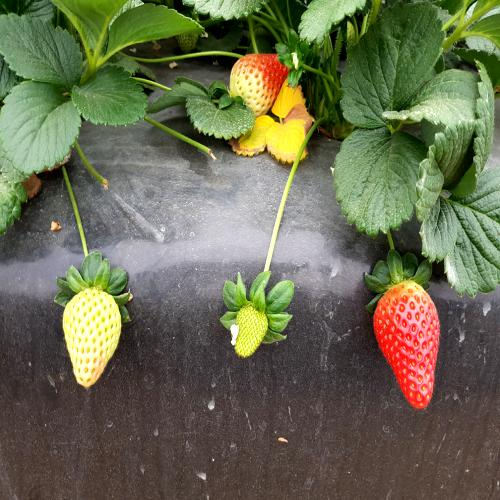partially-ripe: (227, 44, 292, 120)
ripe: (368, 275, 447, 420)
